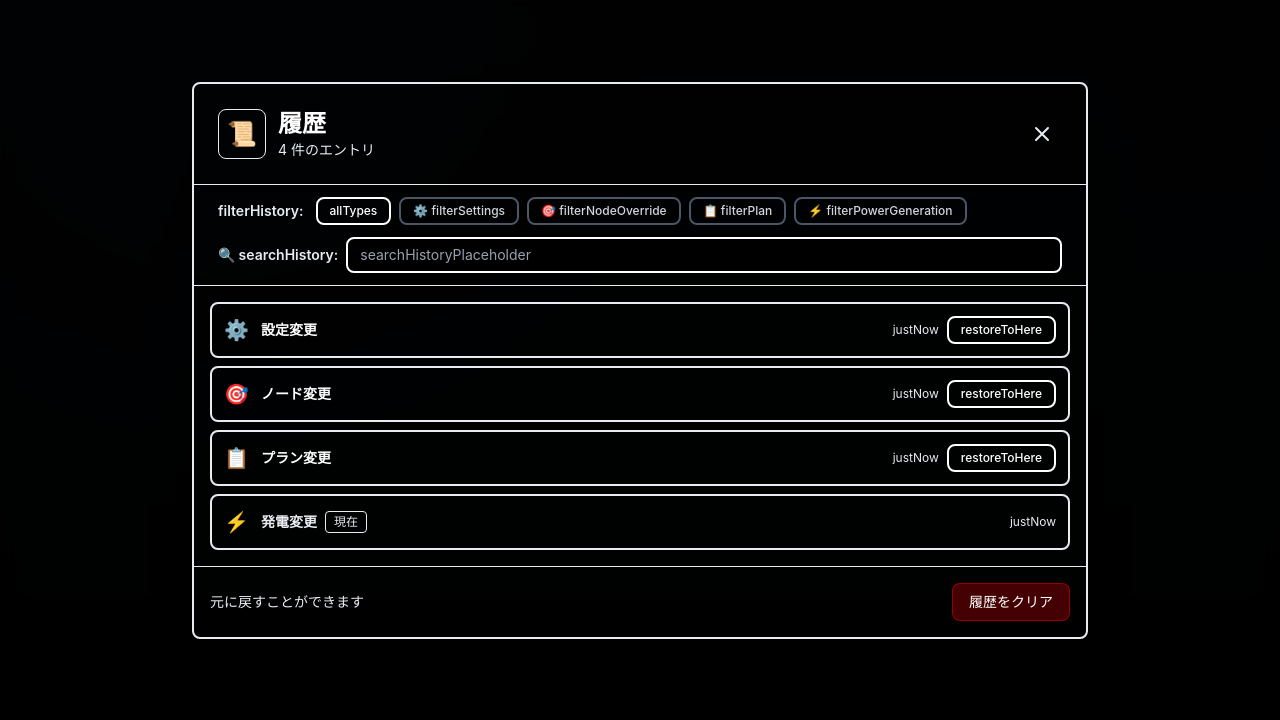
Test: HistoryDialog › Filter Functionality › should filter settings entries
The image size is (1280, 720).
Click the button "⚙️ filterSettings".
click(459, 210)  # box [399,196,519,224]
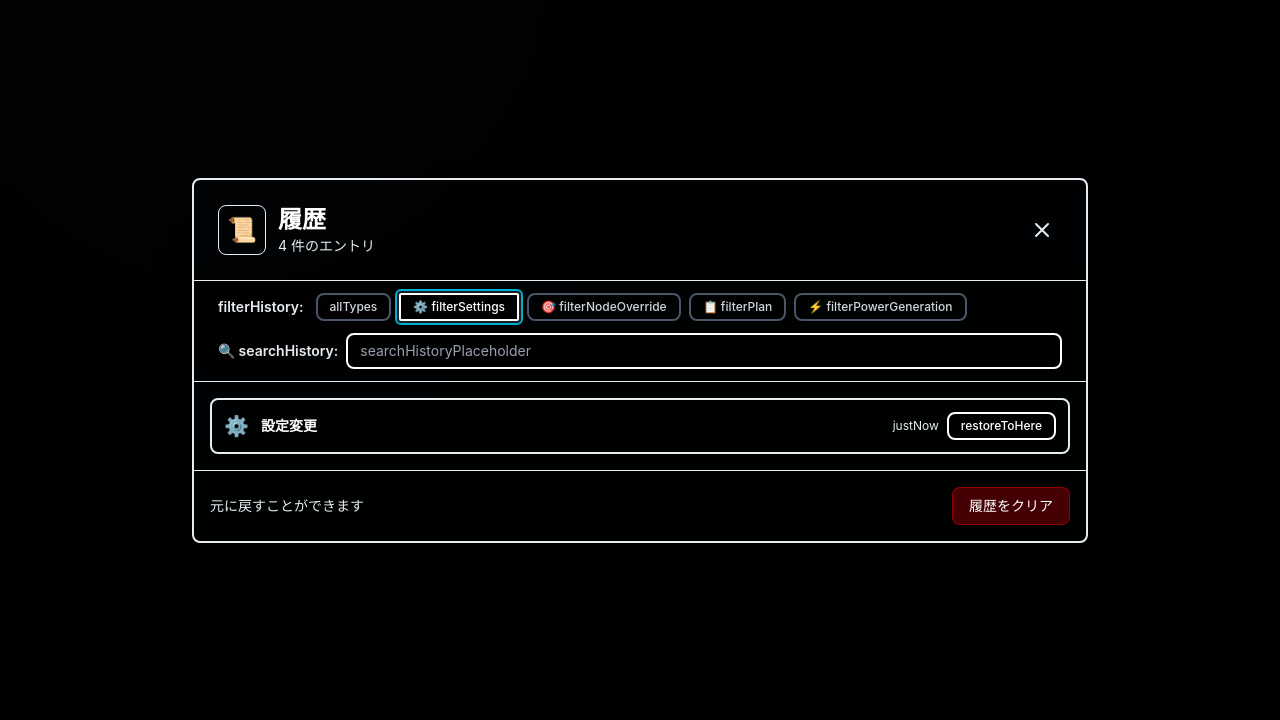
Expected: the text "ノード変更" is gone
Expected: the text "プラン変更" is gone
Expected: the text "発電変更" is gone
